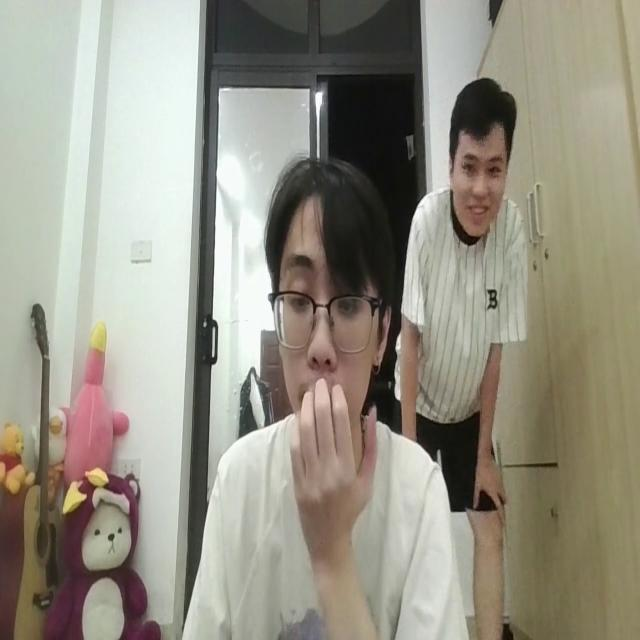extra_person: (407, 78, 527, 489)
student: (185, 155, 456, 640)
